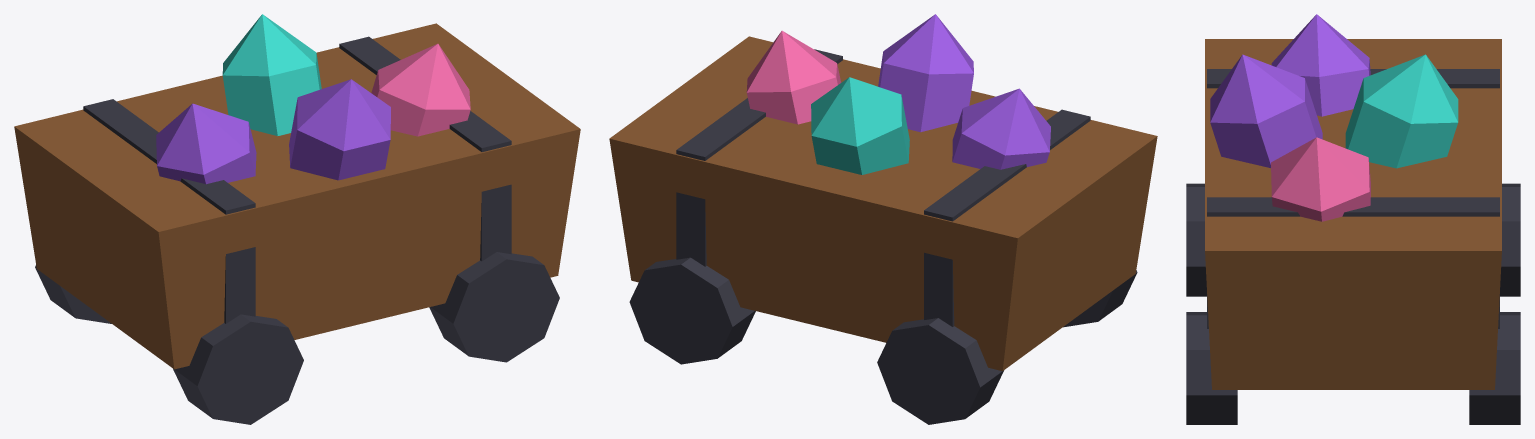
Rendered from env_r12_mine_cart.glb.
3 views of the same model, side by side, from view 1: azimuth 30°, elevation 25°; view 2: azimuth 150°, elevation 25°; view 3: azimuth 270°, elevation 25° (orthographic). The views are drawn at different scales.
Parts seen in each view (by area): view 1: env_r12_mine_cart; view 2: env_r12_mine_cart; view 3: env_r12_mine_cart.
Boxes of the visible parts, x1=… form: env_r12_mine_cart: x1=14, y1=14, x2=580, y2=424; env_r12_mine_cart: x1=609, y1=14, x2=1157, y2=424; env_r12_mine_cart: x1=1186, y1=14, x2=1520, y2=424.
Bounding box in the file's own units: 1.8 × 1.2 × 1.2.
Materials: 1 (1 with a texture image).
